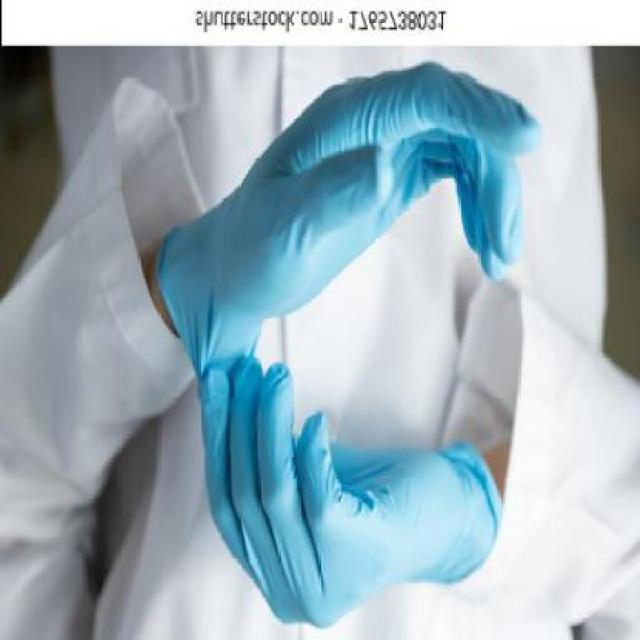gloved_hand: (160, 59, 548, 358), (186, 358, 508, 631)
